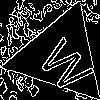W: (35, 30, 100, 96)
